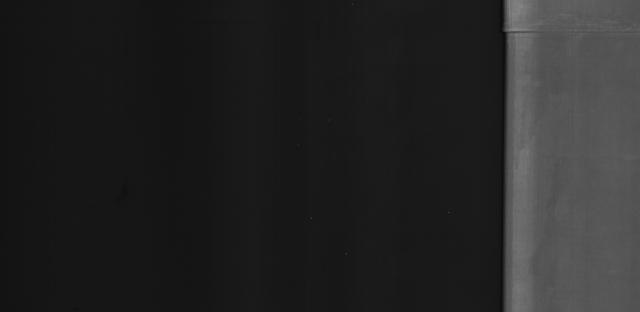welding_line: (500, 23, 640, 42)
